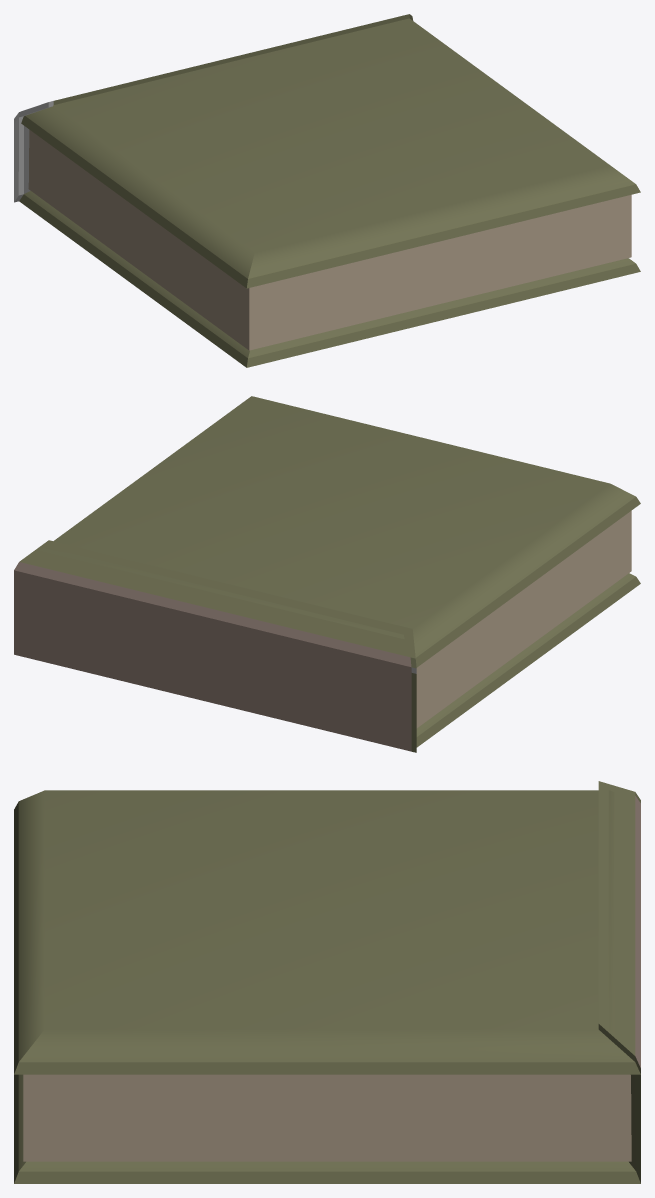
Rendered from book 2.fbx.
The picture shows the model from 3 angles, top to bottom: view 1: azimuth 30°, elevation 25°; view 2: azimuth 150°, elevation 25°; view 3: azimuth 270°, elevation 25°; orthographic projection. The views are drawn at different scales.
Parts seen in each view (by area): view 1: polySurface5; view 2: polySurface5; view 3: polySurface5.
Boxes of the visible parts, left/top/right/bottom form: polySurface5: left=14, top=14, right=640, bottom=367; polySurface5: left=14, top=396, right=640, bottom=752; polySurface5: left=14, top=781, right=640, bottom=1183.
Size of the model in its own units: 1.01 by 0.2594 by 1.
